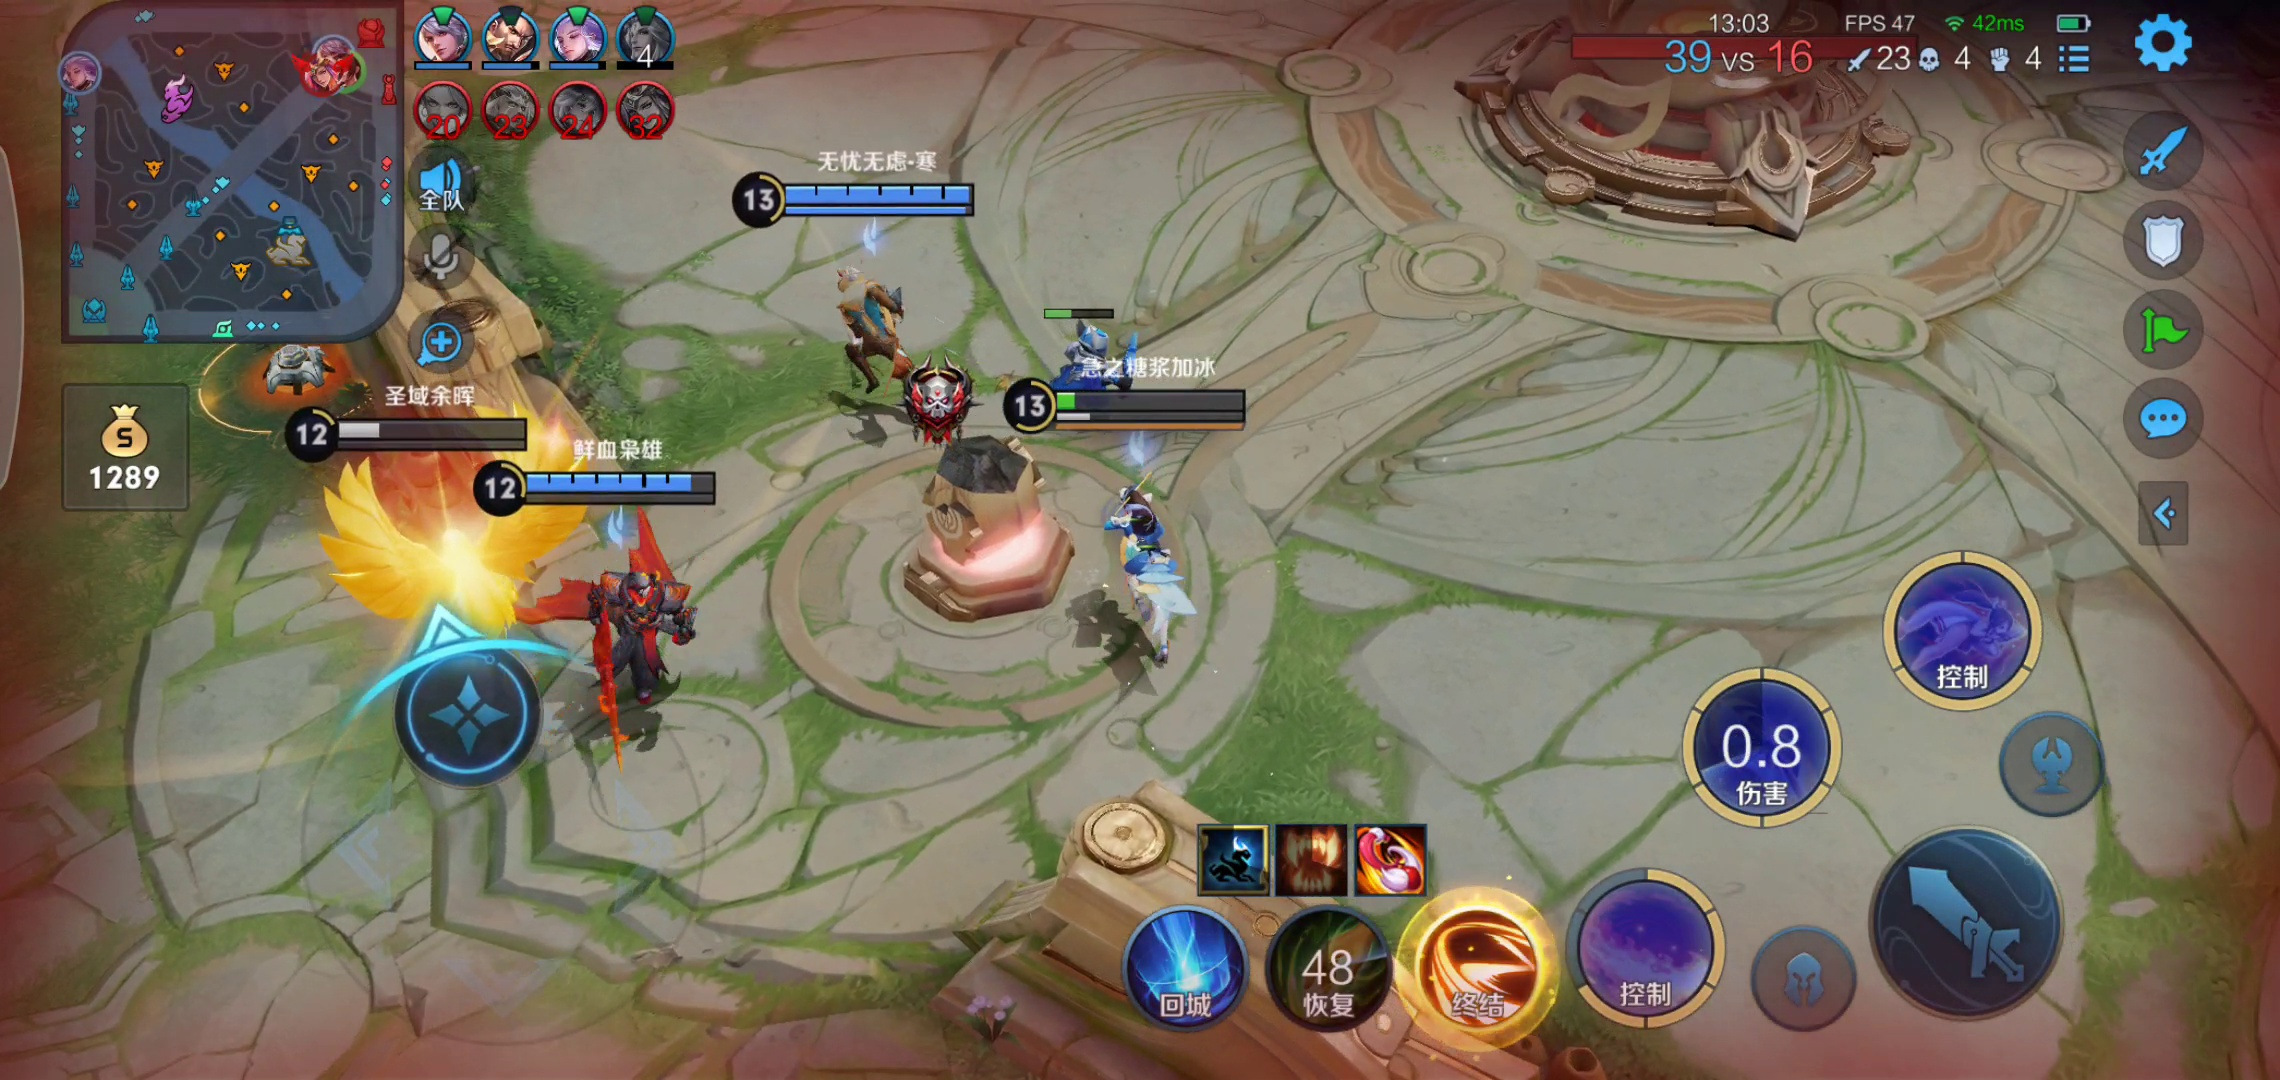crystal: (1394, 1, 1951, 249)
hero: (302, 481, 555, 664), (528, 557, 728, 753), (798, 251, 954, 408)
tower: (907, 435, 1077, 628)
